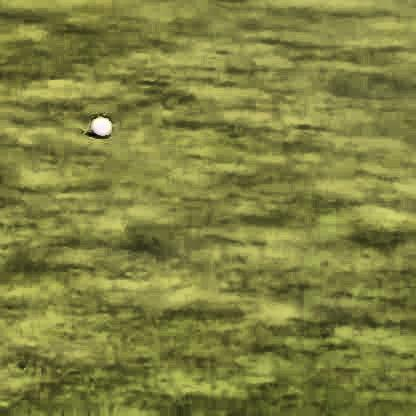golfball: (88, 114, 110, 136)
